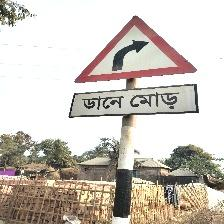Right-turn: (71, 15, 200, 118)
